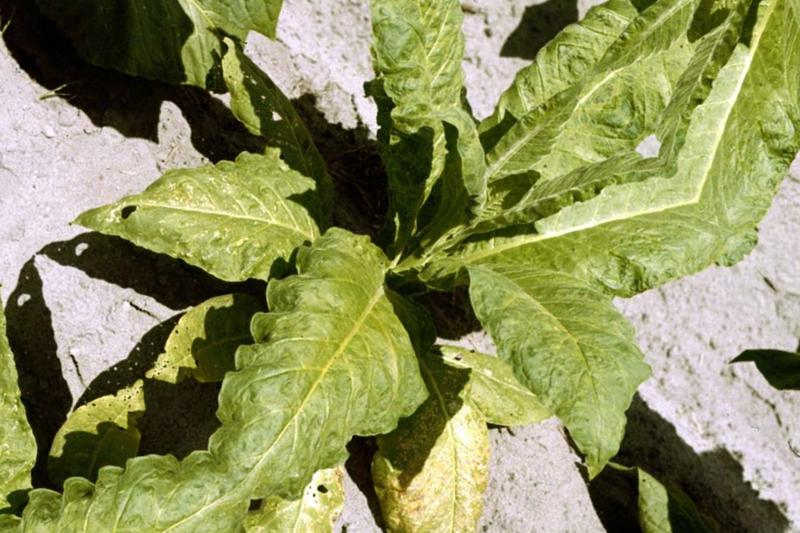Tomato leaf mosaic virus: (145, 207, 478, 533), (205, 0, 569, 237), (93, 73, 359, 335), (438, 228, 687, 487)
